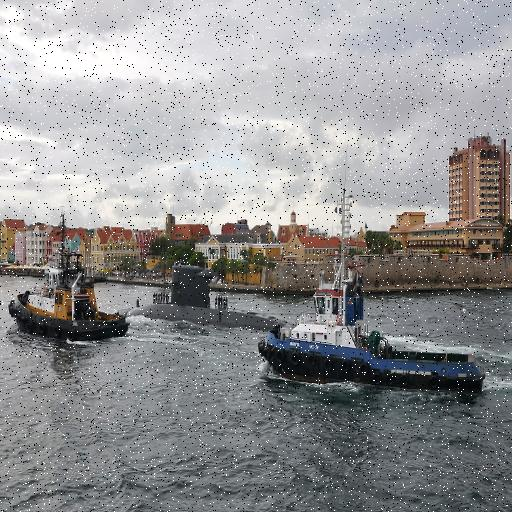submarine: (131, 261, 287, 338)
